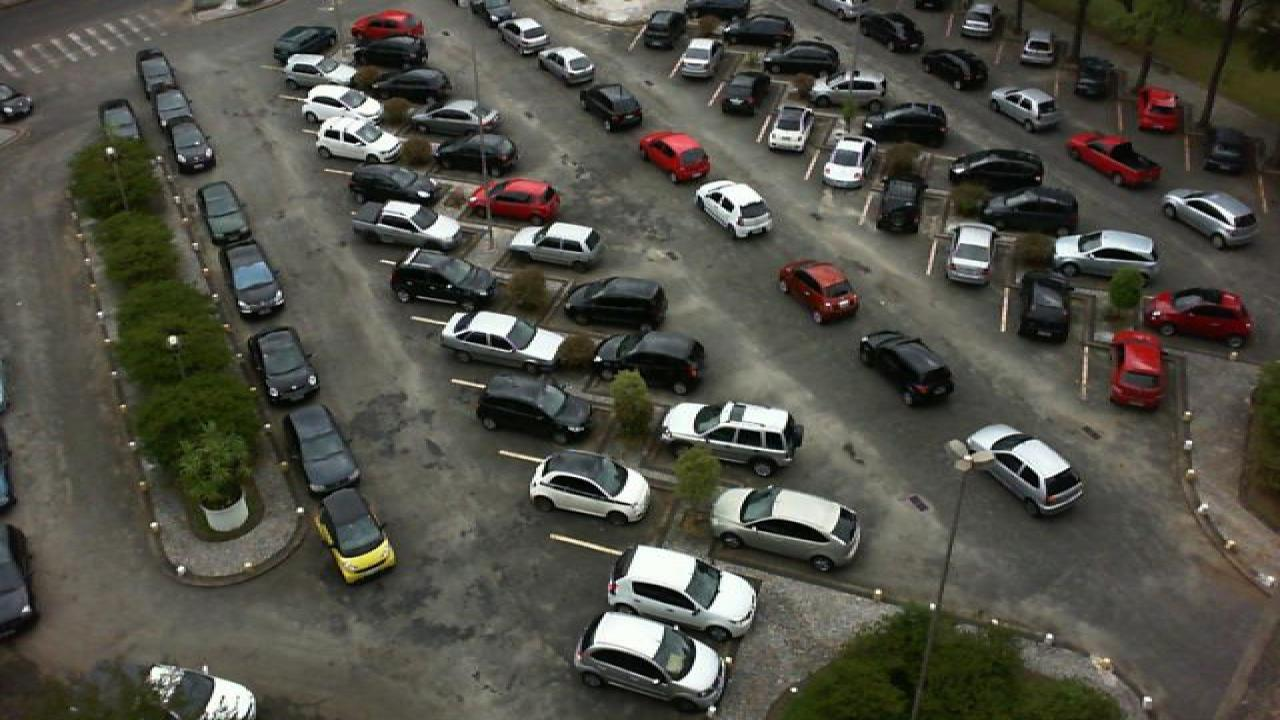Car: (572, 610, 730, 711), (606, 544, 764, 644), (710, 481, 866, 572), (960, 423, 1088, 520), (658, 399, 806, 476), (526, 449, 654, 523), (474, 372, 594, 446), (314, 488, 398, 585), (588, 330, 708, 397), (436, 311, 570, 369), (858, 329, 956, 406), (1140, 287, 1254, 349), (288, 402, 360, 497), (388, 248, 496, 310), (1160, 186, 1260, 248), (562, 277, 670, 331), (1052, 229, 1162, 282), (248, 326, 320, 405), (216, 241, 288, 320), (348, 200, 464, 249), (778, 260, 860, 326), (1064, 132, 1164, 185), (980, 185, 1082, 235), (508, 219, 606, 269), (692, 180, 776, 238), (1110, 328, 1168, 410), (948, 148, 1046, 196), (316, 114, 406, 166), (468, 176, 562, 224), (196, 179, 260, 249), (1016, 272, 1078, 344), (346, 163, 438, 209), (940, 220, 1000, 287), (864, 102, 954, 146), (436, 130, 522, 176), (638, 131, 712, 182), (812, 137, 878, 190), (300, 83, 380, 126), (580, 82, 646, 132), (414, 99, 502, 136), (280, 53, 360, 93), (988, 88, 1060, 132), (918, 47, 990, 91), (164, 116, 218, 173), (876, 178, 930, 235), (372, 68, 452, 106), (808, 70, 890, 107), (350, 35, 432, 70), (1202, 125, 1258, 175), (762, 41, 842, 76), (96, 99, 148, 150), (534, 45, 598, 85), (274, 25, 340, 62), (720, 14, 796, 46), (768, 103, 816, 153), (492, 16, 552, 56), (350, 9, 428, 39), (720, 70, 772, 114), (152, 84, 200, 130), (638, 10, 690, 52), (1134, 86, 1180, 132), (674, 37, 724, 79), (858, 45, 910, 85), (134, 48, 178, 90), (1074, 55, 1116, 99), (956, 1, 1002, 41), (1018, 28, 1062, 65), (684, 0, 752, 21)
